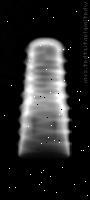Cowellmedi: (17, 35, 71, 161)
